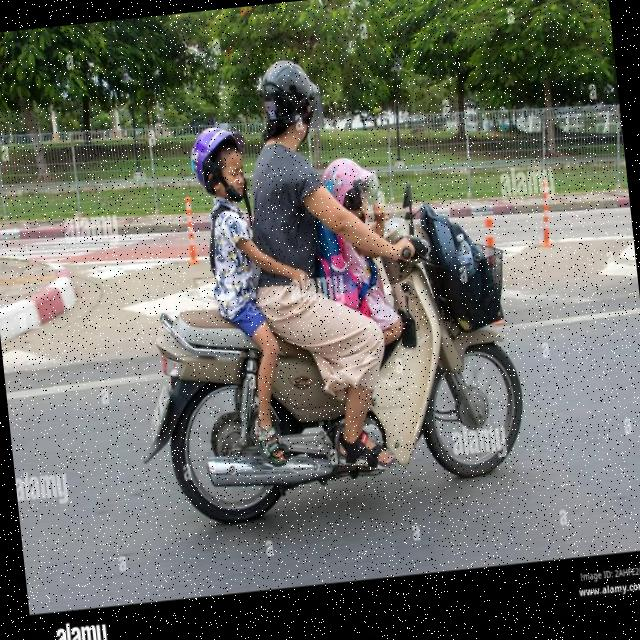Triple riding: (169, 53, 426, 466)
